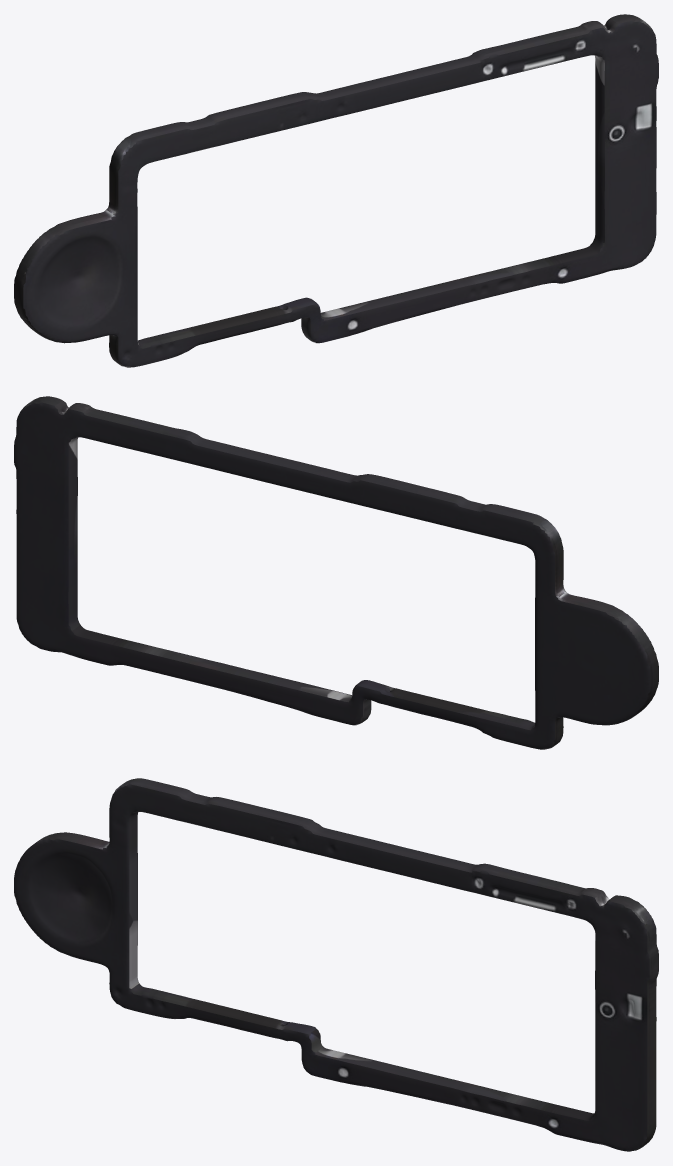
Rendered from speakers.glb.
3 renders of one model, top to bottom at view 1: azimuth 30°, elevation 25°; view 2: azimuth 150°, elevation 25°; view 3: azimuth 330°, elevation 25°, orthographic.
Visible parts, largest first — view 1: tmp_di8o67s.ply; view 2: tmp_di8o67s.ply; view 3: tmp_di8o67s.ply.
Part boxes in pixels (box(x1,y1,x2,y2)): tmp_di8o67s.ply: box(14, 14, 658, 367); tmp_di8o67s.ply: box(14, 396, 658, 749); tmp_di8o67s.ply: box(14, 778, 658, 1151).
Bounding box in the file's own units: 0.9879 × 0.3712 × 0.0277.
Materials: 1 (1 with a texture image).
